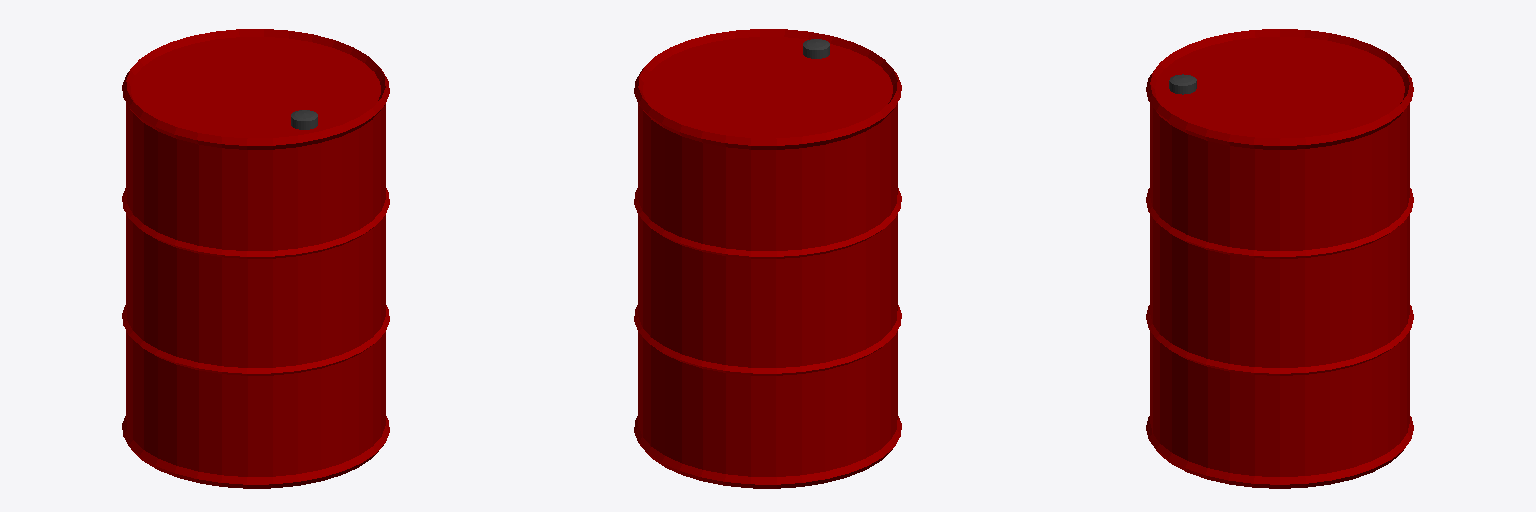
File: barrel.obj
3 renders of one model, left to right at view 1: azimuth 30°, elevation 25°; view 2: azimuth 150°, elevation 25°; view 3: azimuth 270°, elevation 25°, orthographic.
Visible parts, largest first — view 1: barrel.001_barrel.003; view 2: barrel.001_barrel.003; view 3: barrel.001_barrel.003.
Boxes of the visible parts, <box> form: barrel.001_barrel.003: <box>122,29,389,488</box>; barrel.001_barrel.003: <box>634,29,901,488</box>; barrel.001_barrel.003: <box>1146,29,1413,488</box>.
Size of the model in its own units: 0.5904 by 0.8644 by 0.5904.